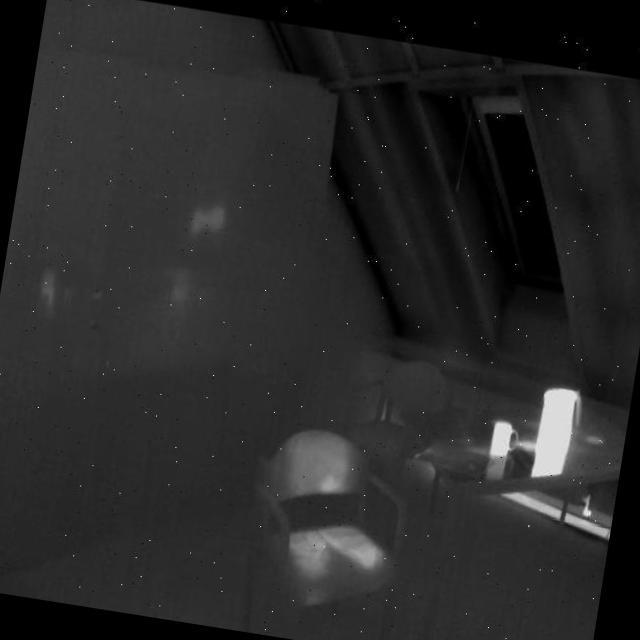person: (0, 242, 49, 592)
